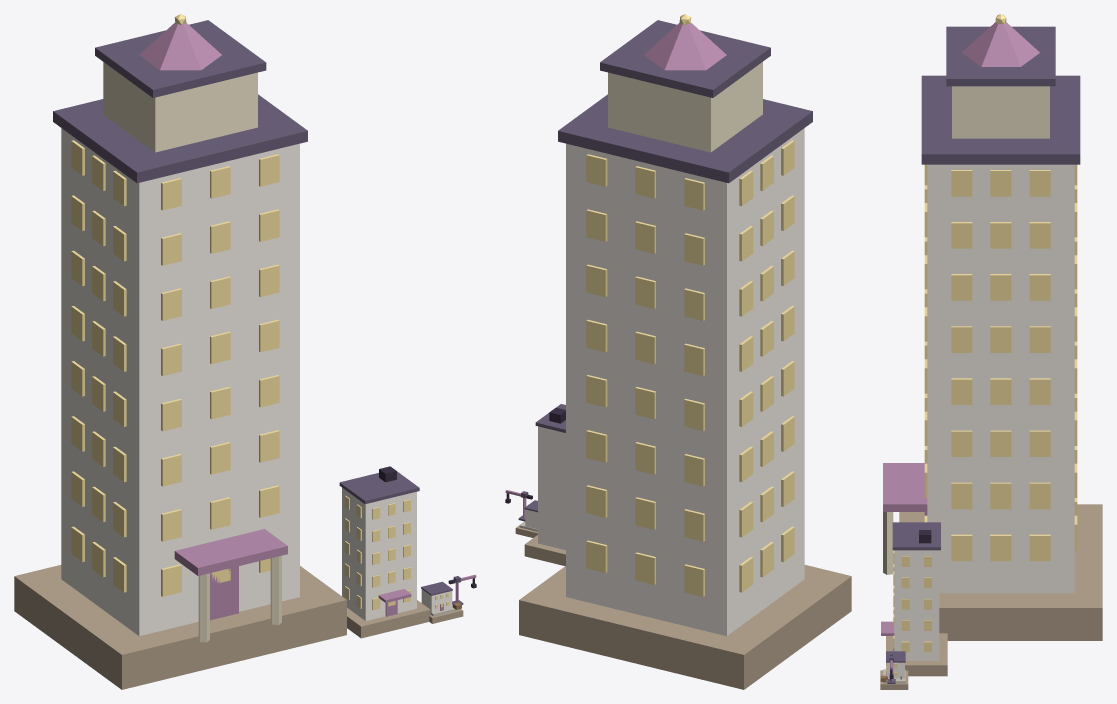
Rendered from city-g3.glb.
3 views of the same model, side by side, from view 1: azimuth 30°, elevation 25°; view 2: azimuth 150°, elevation 25°; view 3: azimuth 270°, elevation 25° (orthographic). The views are drawn at different scales.
Parts seen in each view (by area): view 1: city-g3; view 2: city-g3; view 3: city-g3.
Part boxes in pixels (box(x1,y1,x2,y2)): city-g3: box(14, 14, 476, 689); city-g3: box(505, 14, 851, 689); city-g3: box(880, 14, 1102, 689).
Bounding box in the file's own units: 2.72 × 4.53 × 1.59.
